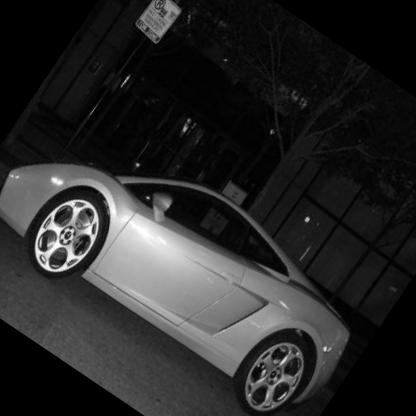car: (1, 83, 380, 416)
